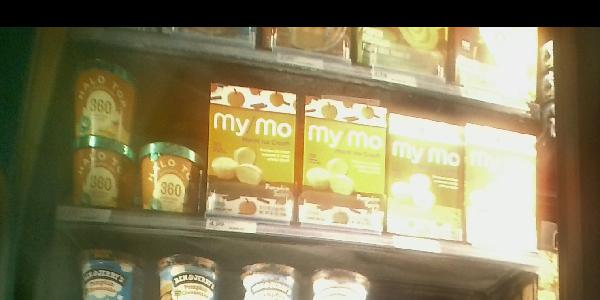icecream: (204, 78, 301, 230), (303, 93, 387, 234), (65, 52, 137, 215), (386, 110, 464, 245), (464, 116, 541, 251), (140, 136, 204, 224)
